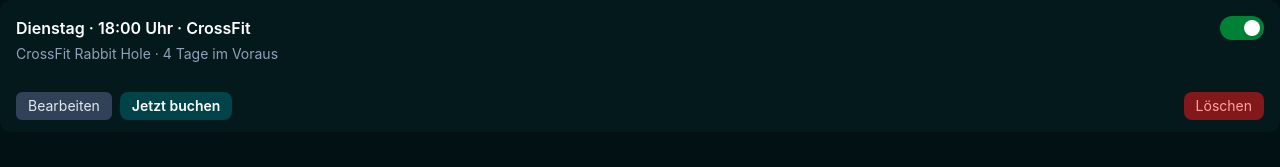
Test case: JobCard › onExecute › zeigt Erfolgsmeldung nach erfolgreicher Buchung
Click the button "Jetzt buchen" at (176, 106), box [120,92,232,120]
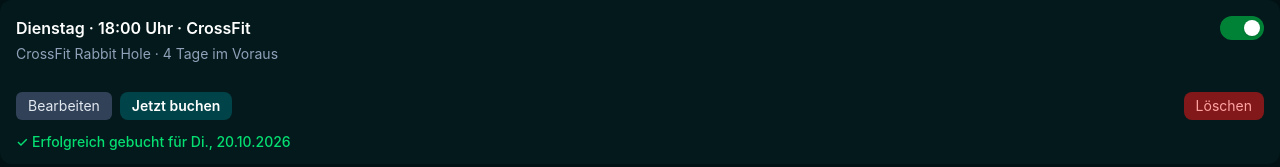
Check: the text "✓ Erfolgreich gebucht für Di., 20.10.2026" is shown, box [16,133,291,150]
